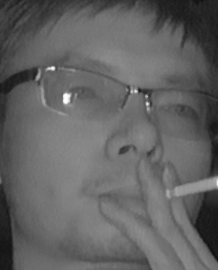eye: (159, 101, 199, 120), (70, 84, 103, 102)
glass: (39, 63, 129, 123), (143, 87, 218, 138)
